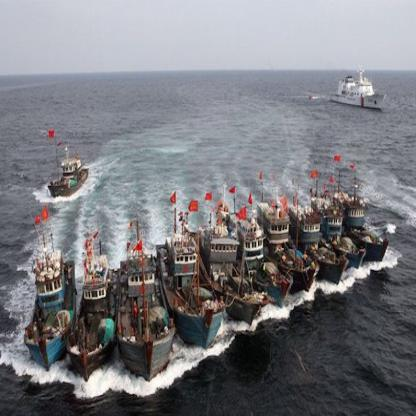fish-b: (157, 196, 228, 357), (113, 218, 178, 382), (66, 229, 121, 378), (201, 208, 265, 329), (228, 197, 294, 313), (29, 238, 82, 372), (258, 198, 322, 298), (288, 195, 349, 289), (335, 178, 392, 262), (319, 195, 368, 273), (42, 139, 95, 210)
